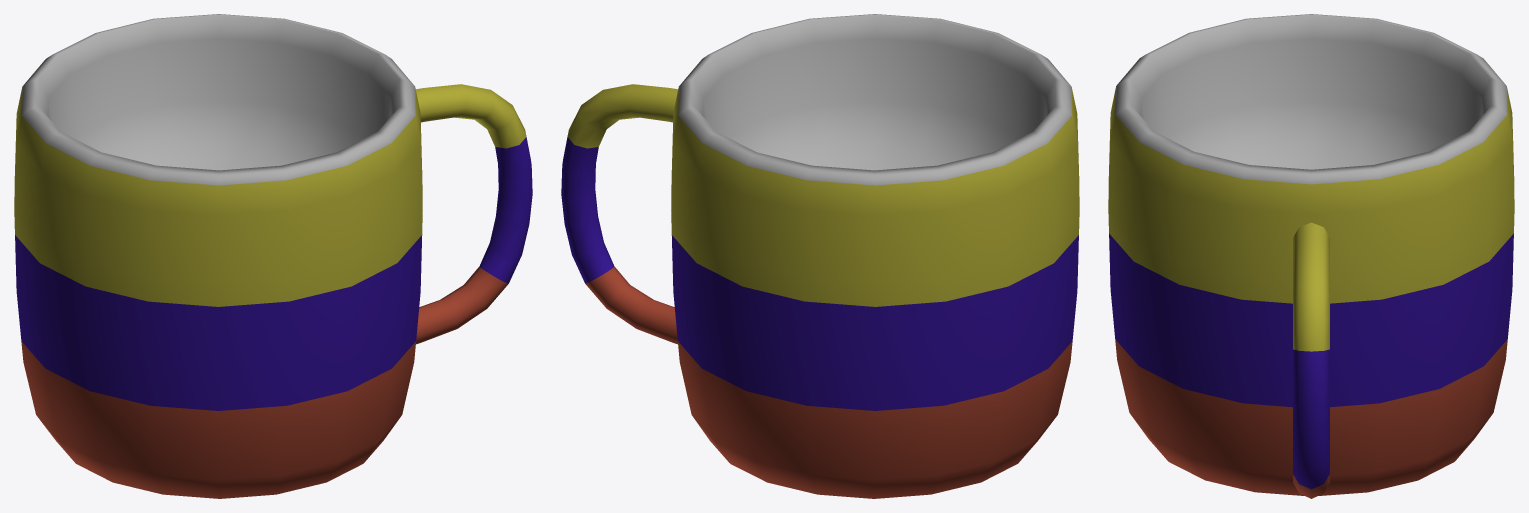
File: Taza.fbx
3 views of the same model, side by side, from view 1: azimuth 30°, elevation 25°; view 2: azimuth 150°, elevation 25°; view 3: azimuth 270°, elevation 25° (orthographic).
Visible parts, largest first — view 1: pCylinder17; view 2: pCylinder17; view 3: pCylinder17.
Part boxes in pixels (x1,y1,x2,y2): pCylinder17: (14, 14, 532, 498); pCylinder17: (561, 14, 1079, 498); pCylinder17: (1108, 14, 1514, 498).
Size of the model in its own units: 2.93 by 1.99 by 2.1.
